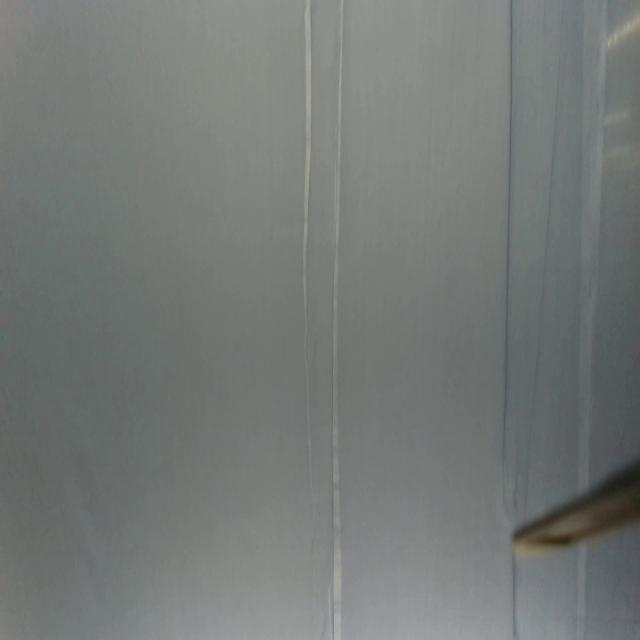crease: (524, 2, 567, 514), (575, 0, 613, 483), (330, 0, 346, 640), (302, 1, 320, 525), (499, 0, 515, 466), (511, 558, 519, 640)
